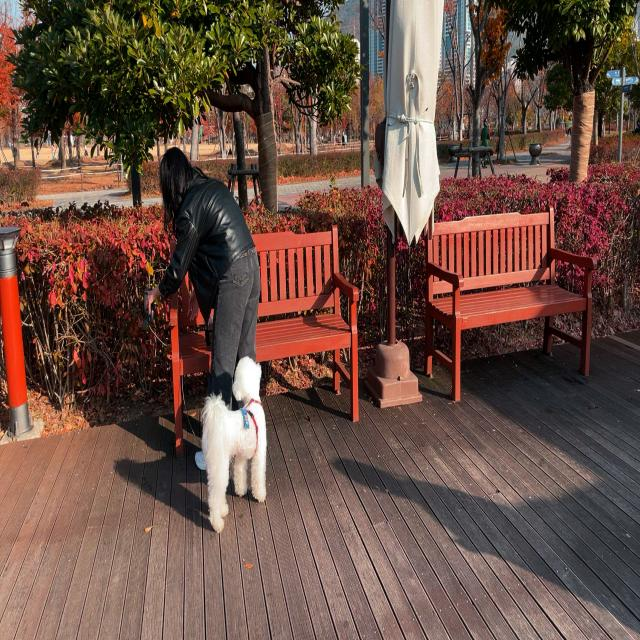Leashed_Dog: (143, 290, 268, 534)
